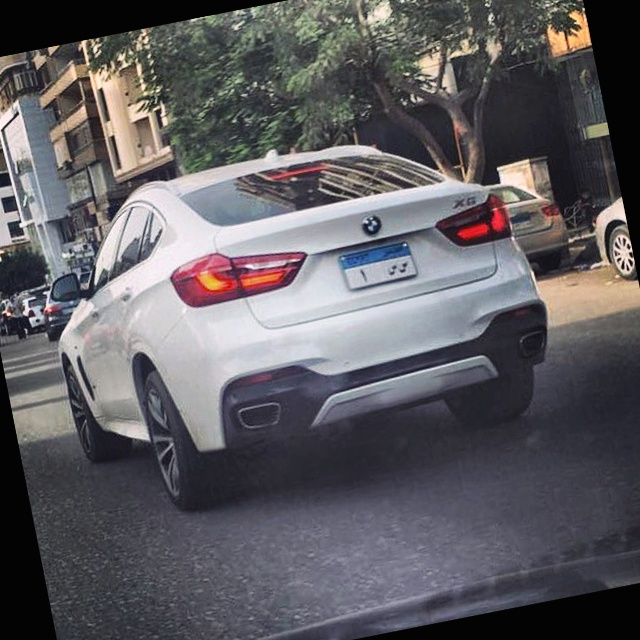License Plate: (335, 236, 422, 294)
